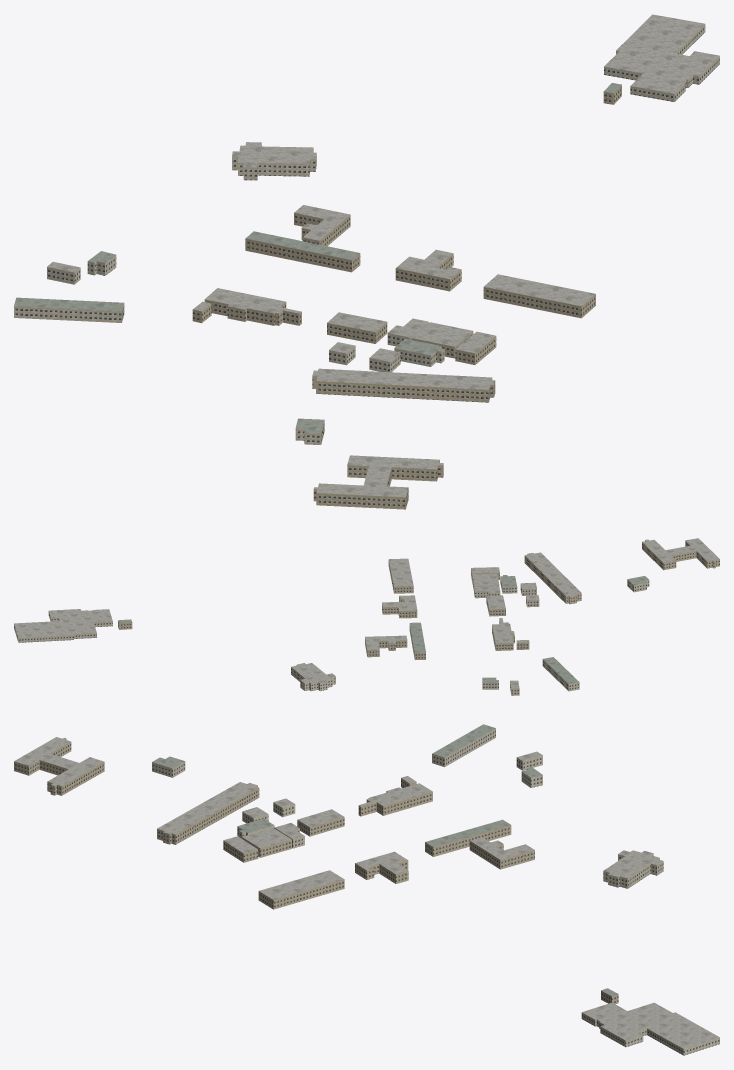
The model's file is ArahaTown_Block_W01024_S04096.gltf.
The picture shows the model from 3 angles, top to bottom: view 1: azimuth 30°, elevation 25°; view 2: azimuth 150°, elevation 25°; view 3: azimuth 270°, elevation 25°; orthographic projection. The views are drawn at different scales.
Visible parts, largest first — view 1: ArahaTown_Block_W01024_S04096; view 2: ArahaTown_Block_W01024_S04096; view 3: ArahaTown_Block_W01024_S04096.
Part boxes in pixels (x1,y1,x2,y2): ArahaTown_Block_W01024_S04096: [14, 14, 719, 509]; ArahaTown_Block_W01024_S04096: [14, 538, 719, 695]; ArahaTown_Block_W01024_S04096: [14, 724, 719, 1055].
Bounding box in the file's own units: 570 × 12.37 × 536.
4 materials, 4 textured.
